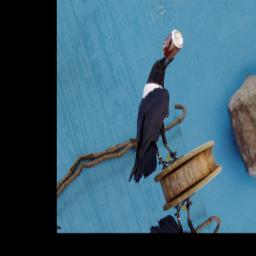Crow: (102, 48, 202, 193)
